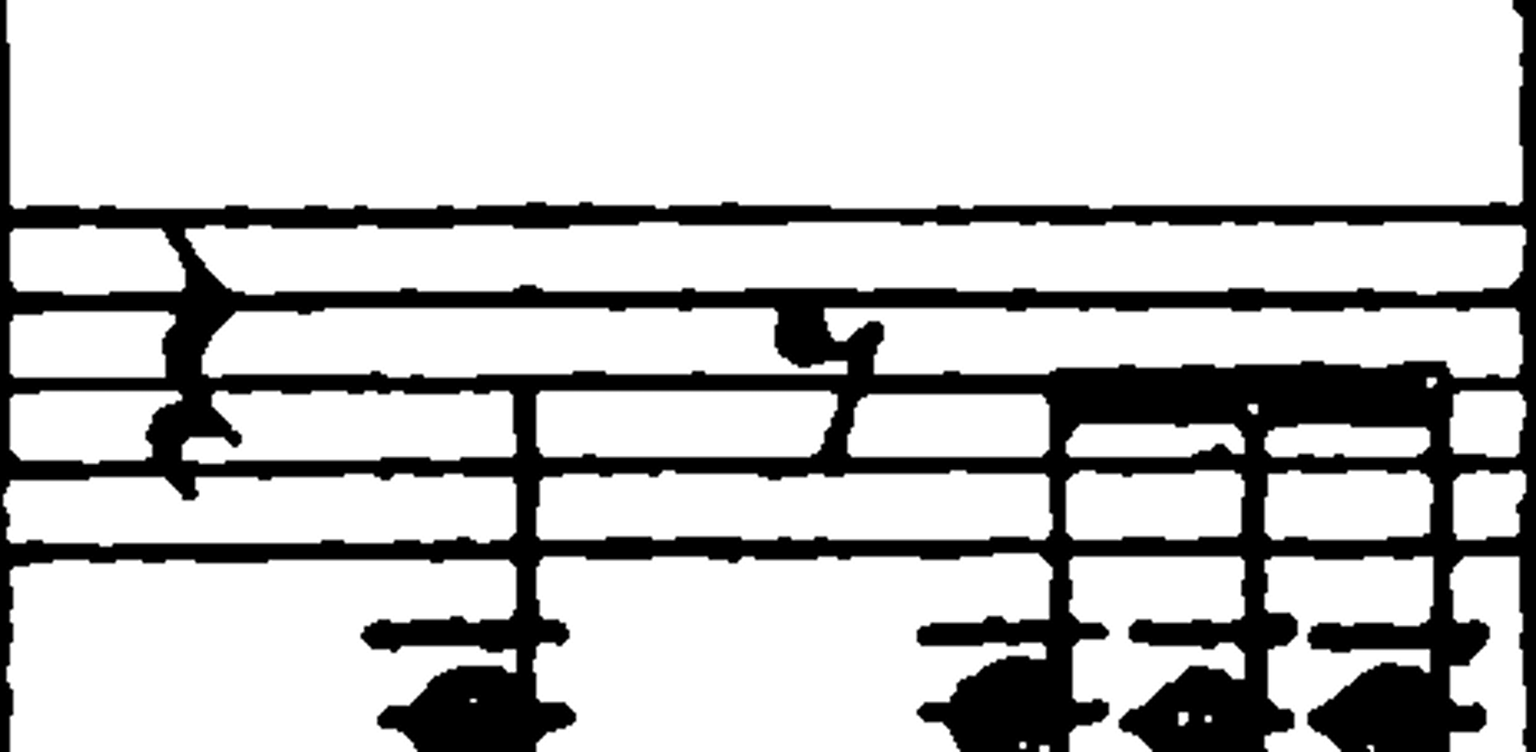noteheadBlackInSpace: (846, 320, 884, 358), (1175, 665, 1210, 702), (164, 353, 201, 382), (149, 440, 180, 472), (1175, 665, 1209, 690), (377, 705, 408, 728), (1129, 618, 1153, 642)
noteheadBlackOnLine: (775, 318, 825, 345), (147, 417, 189, 446), (1046, 616, 1080, 650), (1045, 445, 1075, 482), (1428, 450, 1460, 483), (1238, 621, 1269, 655), (180, 375, 213, 404), (513, 456, 545, 483), (179, 371, 211, 398), (942, 371, 960, 390)
restHBar: (22, 365, 1171, 398), (135, 533, 1286, 564), (173, 201, 1324, 228), (173, 453, 1323, 480)
restHalf: (1078, 623, 1108, 638)
restQuarter: (1039, 528, 1073, 607), (0, 448, 14, 532)
restWhole: (1307, 622, 1387, 650), (13, 544, 116, 562), (2, 461, 91, 479), (984, 732, 1068, 751), (274, 209, 358, 227), (402, 375, 461, 393), (385, 458, 444, 476), (1049, 208, 1108, 224), (309, 209, 358, 227), (74, 544, 116, 562), (1229, 289, 1264, 310), (1347, 213, 1385, 225), (1274, 213, 1315, 224), (1230, 299, 1263, 311), (900, 212, 925, 224)
